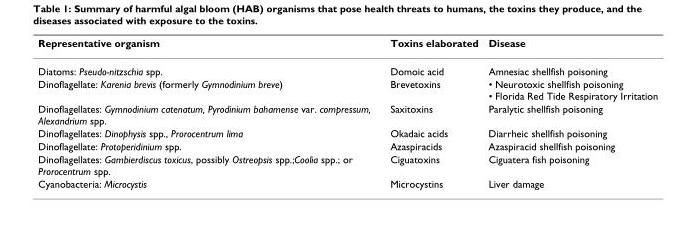table: (37, 36, 657, 189)
table column: (37, 36, 379, 189), (482, 36, 657, 189), (379, 36, 482, 189)
table column header: (37, 36, 657, 56)
table row: (37, 101, 657, 126), (37, 77, 657, 101), (37, 152, 657, 176), (37, 56, 657, 77), (37, 36, 657, 56), (37, 126, 657, 139), (37, 139, 657, 152), (37, 176, 657, 189)
